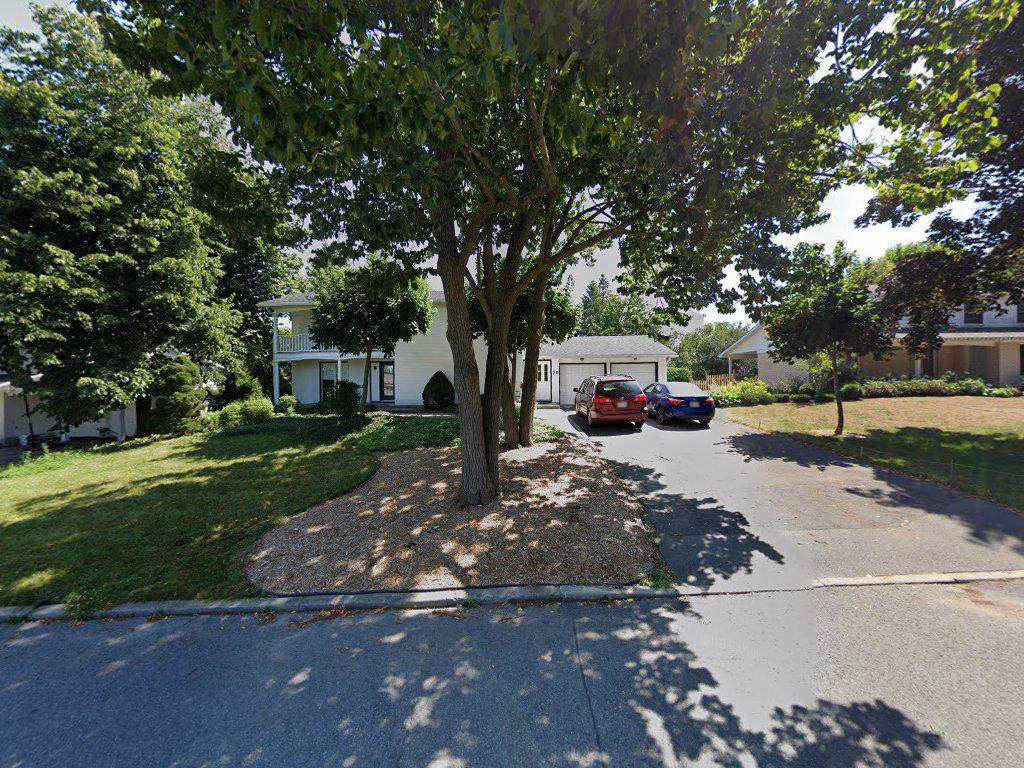trunk: (434, 189, 510, 518), (823, 345, 852, 441)
